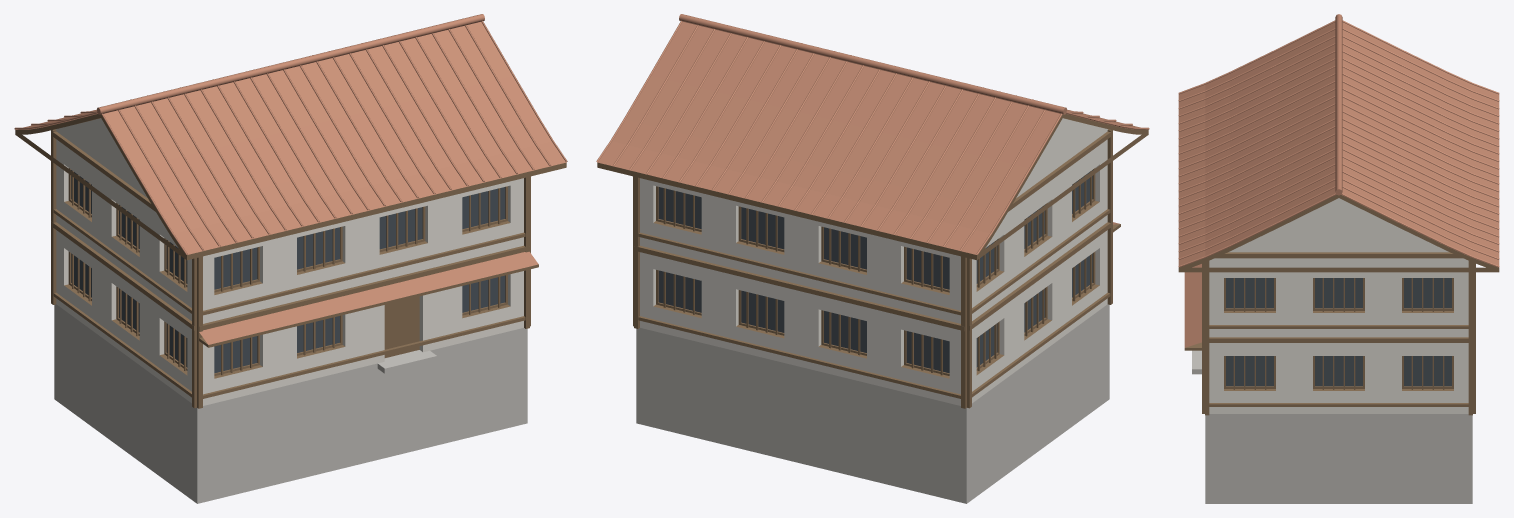
File: japanese_house_2_m.glb
3 renders of one model, left to right at view 1: azimuth 30°, elevation 25°; view 2: azimuth 150°, elevation 25°; view 3: azimuth 270°, elevation 25°, orthographic. The views are drawn at different scales.
Parts seen in each view (by area): view 1: japanese_house_2_m; view 2: japanese_house_2_m; view 3: japanese_house_2_m.
Part boxes in pixels (left/top/right/bottom): japanese_house_2_m: left=14, top=14, right=567, bottom=503; japanese_house_2_m: left=596, top=14, right=1149, bottom=503; japanese_house_2_m: left=1178, top=14, right=1499, bottom=503.
Size of the model in its own units: 13.96 by 12.16 by 10.83.
